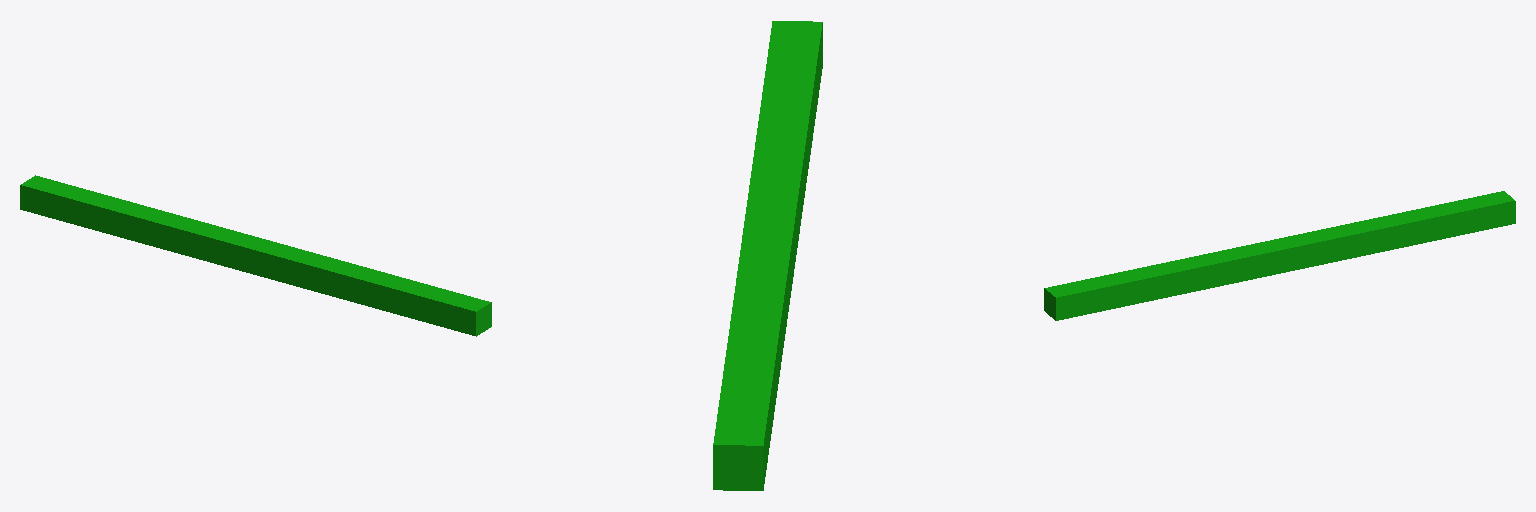
The robot description file, URDF, robot "block_2":
<?xml version="1.0"?>
<robot name="block_2">
  <link name="block_2_base_link">
    <contact>
      <lateral_friction value="1.0"/>
      <spinning_friction value=".001"/>
    </contact>
    <inertial>
      <origin rpy="0 0 90" xyz="0 0 0"/>
      <mass value="0.02"/>
      <inertia ixx="1" ixy="0" ixz="0" iyy="1" iyz="0" izz="1"/>
    </inertial>
    <visual>
      <origin rpy="0 0 90" xyz="0.0 0.0 0.0"/>
      <geometry>
        <box size="0.1 0.005 0.005"/>
      </geometry>
      <material name="blockmat">
        <color rgba="0.1 0.7 0.1 1"/>
      </material>
    </visual>
    <collision>
      <origin rpy="0 0 90" xyz="0.0 0.0 0.0"/>
      <geometry>
        <box size="0.1 0.005 0.005"/>
      </geometry>
    </collision>
  </link>
</robot>

--- What the picture shows (computed from the rendered views, not written in the file) ---
3 views of the same robot in one strip: view 1: azimuth 30°, elevation 25°; view 2: azimuth 150°, elevation 25°; view 3: azimuth 270°, elevation 25° (orthographic).
Robot: block_2 — 1 links, 0 joints (none); root link block_2_base_link; default pose: all joints at 0.
Visible links, largest first — view 1: block_2_base_link; view 2: block_2_base_link; view 3: block_2_base_link.
Link boxes in pixels (bbox=[...]): block_2_base_link: bbox=[20, 175, 491, 336]; block_2_base_link: bbox=[713, 21, 822, 490]; block_2_base_link: bbox=[1044, 191, 1515, 320].
Bounding box of the posed robot: 0.0493 × 0.0916 × 0.005 m (x, y, z).
Geometry: primitives only (box / cylinder / sphere), no mesh files.